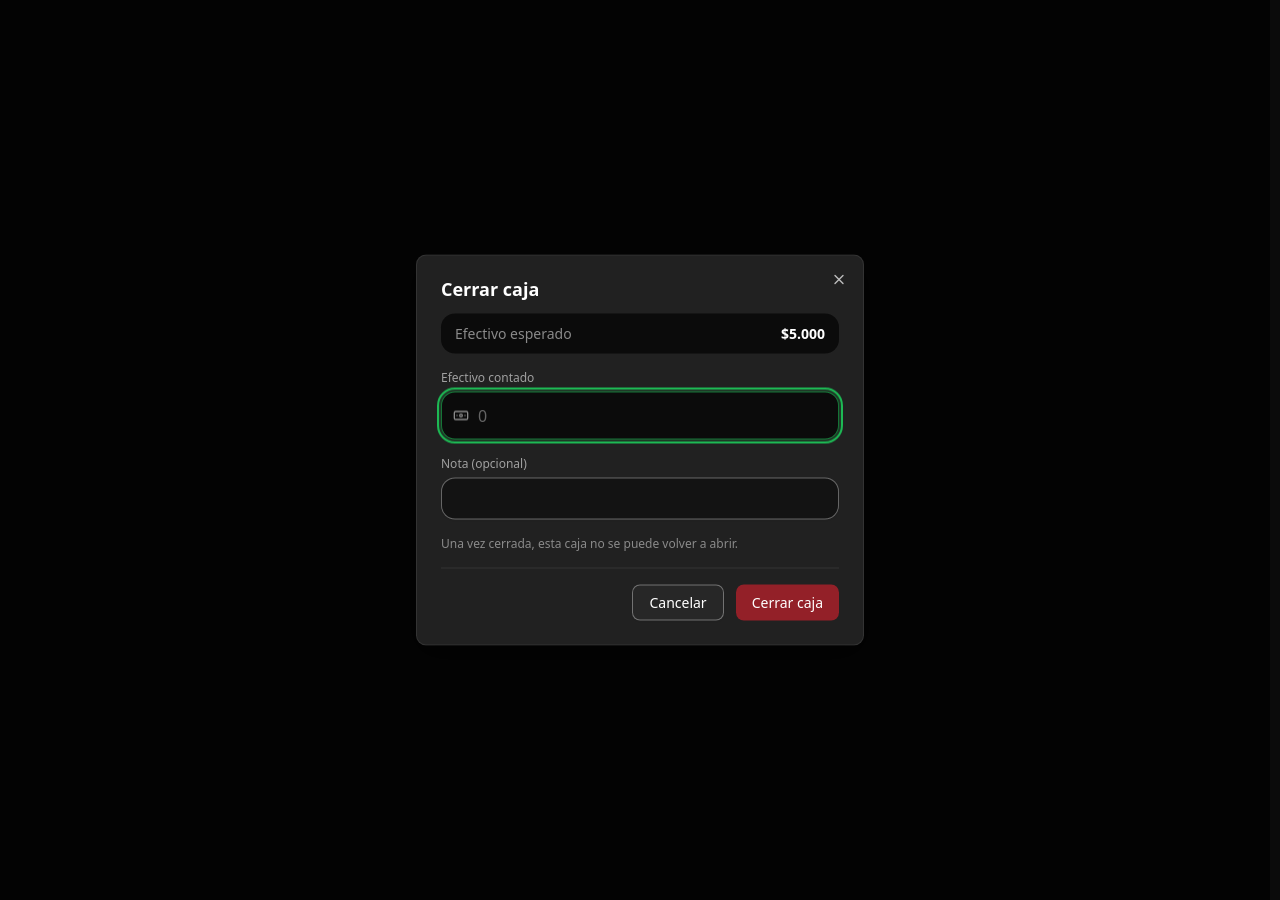
Test case: CloseCashSessionDialog — live difference › rejects submitting with no counted amount typed
Click the button "Cerrar caja" at [787, 602], box [736,584,839,620]
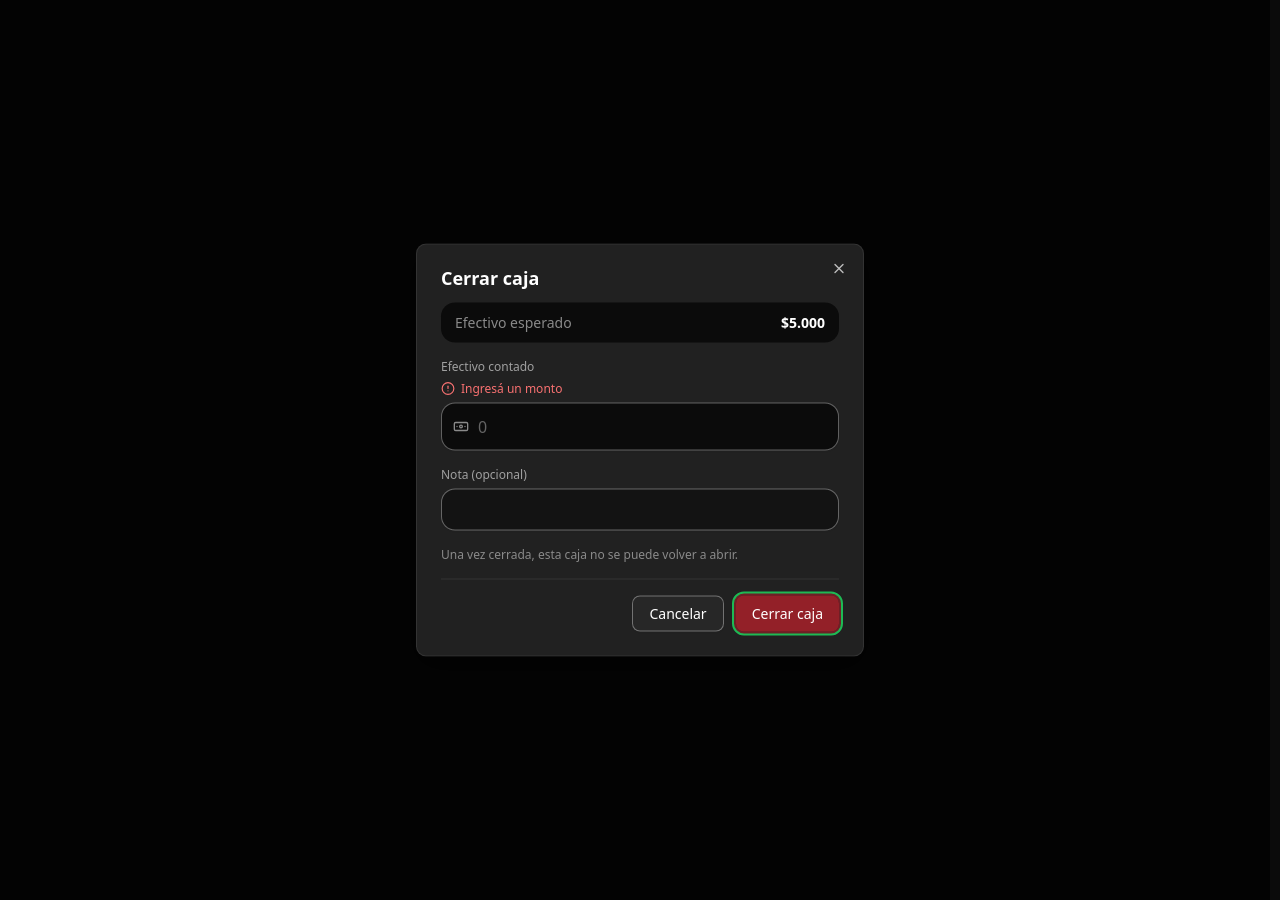
Result: the text "Ingresá un monto" is shown at [441,380,562,396]
